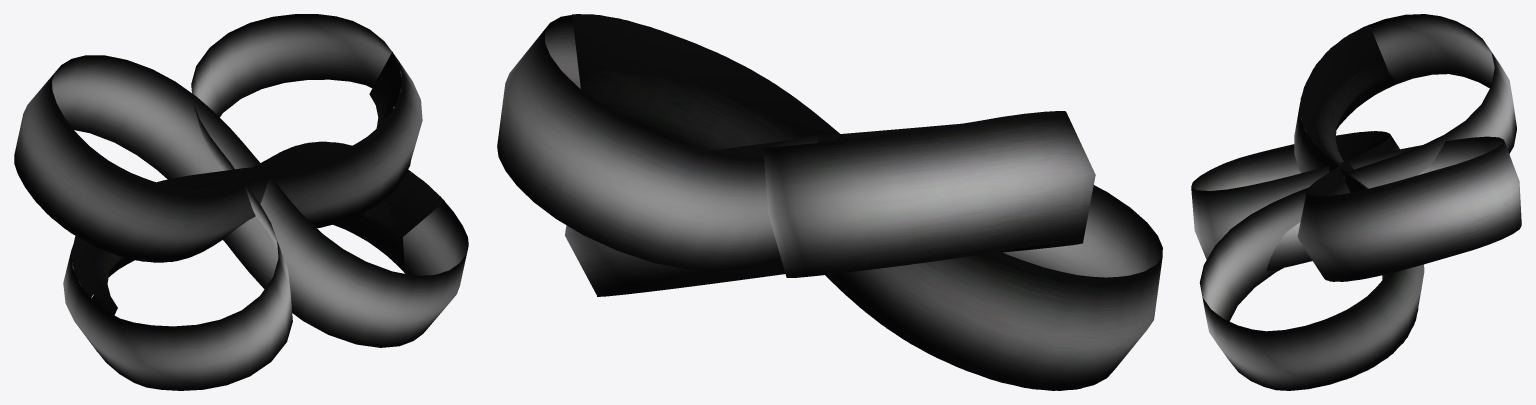
File: vfx_kurp_0355.dae
3 views of the same model, side by side, from view 1: azimuth 30°, elevation 25°; view 2: azimuth 150°, elevation 25°; view 3: azimuth 270°, elevation 25° (orthographic). The views are drawn at different scales.
Parts seen in each view (by area): view 1: vfx_kurp_0355; view 2: vfx_kurp_0355; view 3: vfx_kurp_0355.
Part boxes in pixels (bbox=[...]): vfx_kurp_0355: bbox=[14, 14, 468, 390]; vfx_kurp_0355: bbox=[497, 14, 1162, 390]; vfx_kurp_0355: bbox=[1191, 14, 1521, 390].
Bounding box in the file's own units: 8.31 × 6.6 × 5.22.
Materials: 1 (1 with a texture image).
